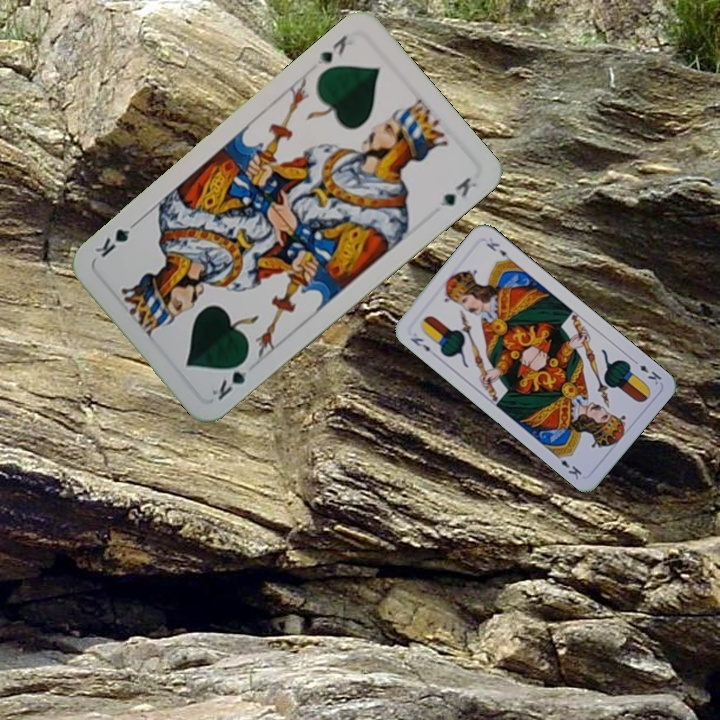EK: (628, 355, 664, 388), (406, 333, 433, 355)
GK: (207, 354, 251, 404), (313, 30, 350, 69)
